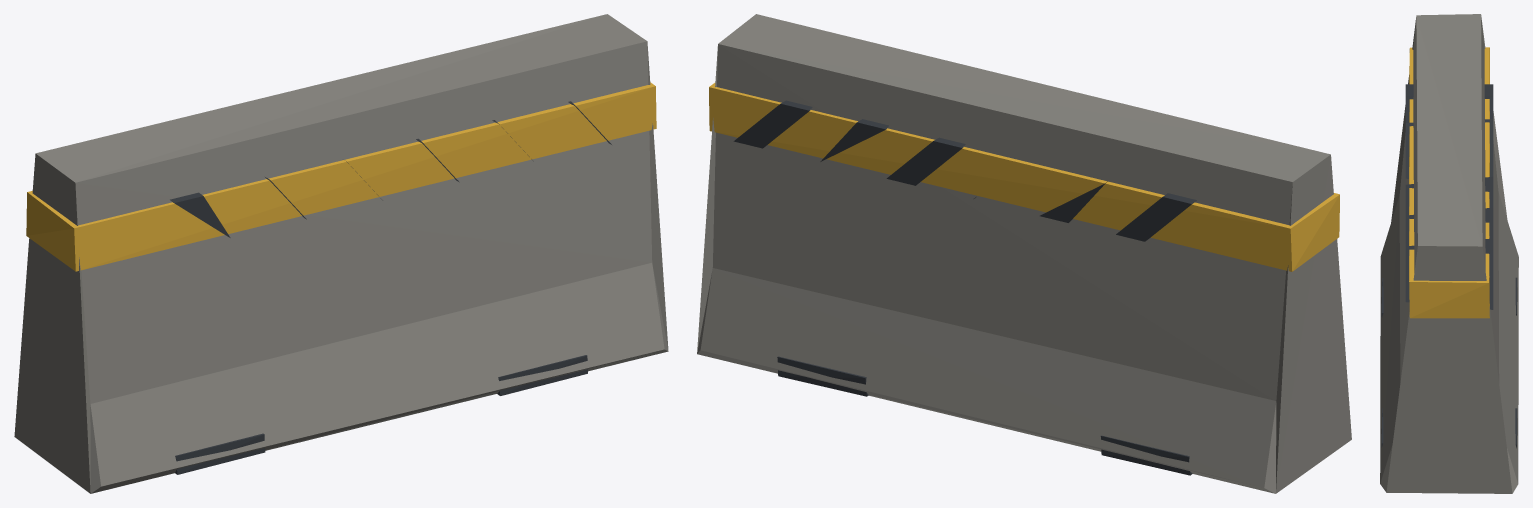
Rendered from cover_barrier_lod1.obj.
3 views of the same model, side by side, from view 1: azimuth 30°, elevation 25°; view 2: azimuth 150°, elevation 25°; view 3: azimuth 270°, elevation 25° (orthographic). The views are drawn at different scales.
Parts seen in each view (by area): view 1: cover_barrier_lod1; view 2: cover_barrier_lod1; view 3: cover_barrier_lod1.
Part boxes in pixels (x1,y1,x2,y2): cover_barrier_lod1: (14,14,668,493); cover_barrier_lod1: (697,14,1351,493); cover_barrier_lod1: (1380,14,1518,493).
Bounding box in the file's own units: 1.98 × 0.9714 × 0.4941.
